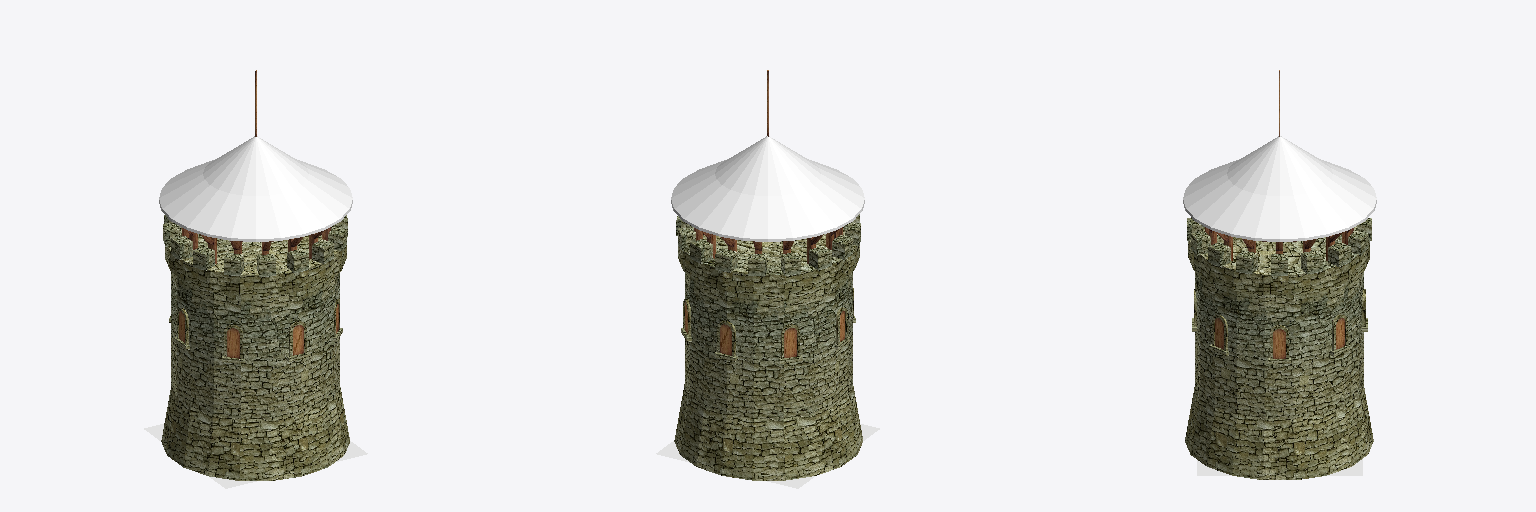
The picture shows the model from 3 angles: view 1: azimuth 30°, elevation 25°; view 2: azimuth 150°, elevation 25°; view 3: azimuth 270°, elevation 25°; orthographic projection.
Visible parts, largest first — view 1: limestone, roof, floor, grass; view 2: limestone, roof, floor, grass; view 3: limestone, roof, floor.
Part boxes in pixels (x1,y1,x2,y2): limestone: (161, 215, 349, 480); roof: (159, 136, 352, 241); floor: (179, 70, 338, 358); grass: (144, 424, 367, 488); limestone: (674, 214, 862, 480); roof: (671, 136, 864, 241); floor: (685, 70, 844, 357); grass: (656, 424, 879, 488); limestone: (1185, 217, 1373, 479); roof: (1183, 136, 1376, 241); floor: (1205, 70, 1353, 358).
Size of the model in its own units: 89.81 by 188 by 89.81.
Materials: 4 (2 with a texture image).